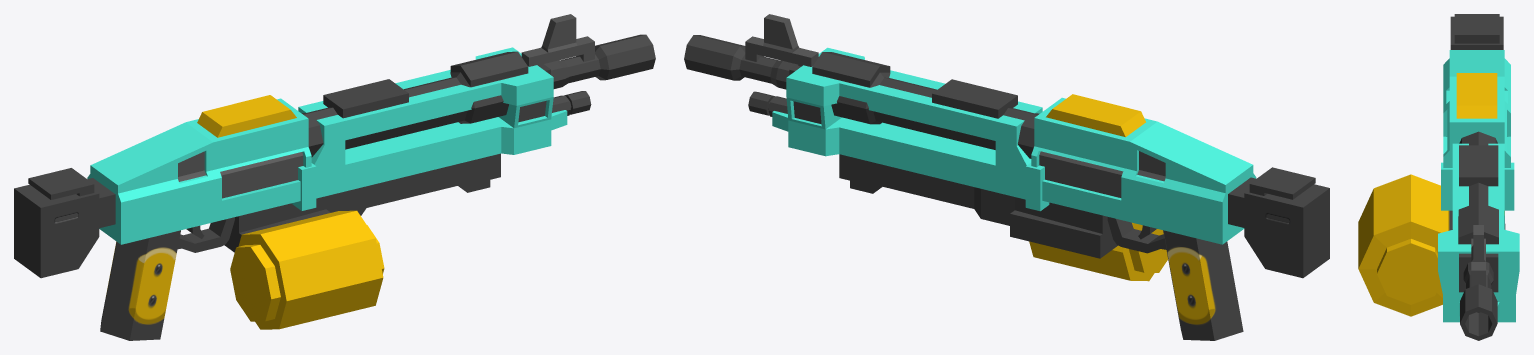
The model's file is sung 02.fbx.
The picture shows the model from 3 angles, left to right: view 1: azimuth 30°, elevation 25°; view 2: azimuth 150°, elevation 25°; view 3: azimuth 270°, elevation 25°; orthographic projection.
Visible parts, largest first — view 1: Box008; view 2: Box008; view 3: Box008.
Part boxes in pixels (<box>): Box008: <box>14,14,655,340</box>; Box008: <box>684,14,1329,340</box>; Box008: <box>1358,14,1519,340</box>.
Bounding box in the file's own units: 29.19 × 9.53 × 6.59.
Materials: 1 (1 with a texture image).
